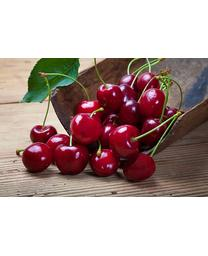cherry: (108, 124, 140, 160), (55, 144, 88, 177), (70, 114, 104, 144), (21, 141, 53, 171), (124, 153, 155, 181), (140, 88, 164, 120), (99, 85, 124, 111), (92, 149, 118, 174), (119, 101, 141, 127), (32, 124, 55, 144)
